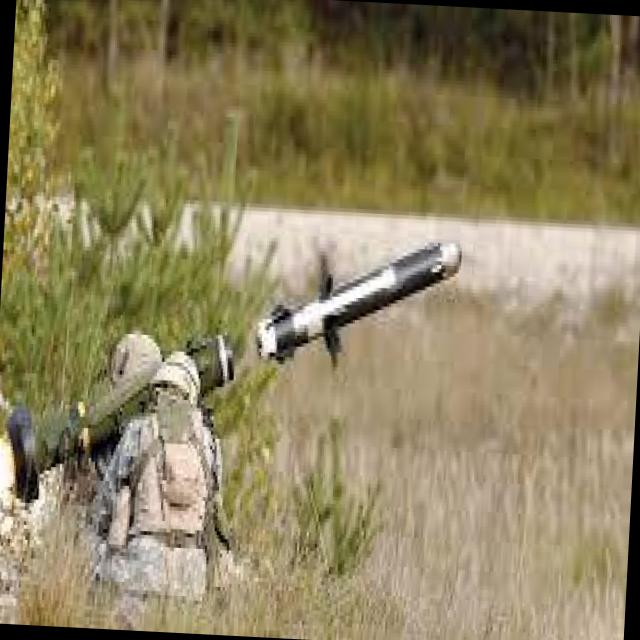rocket: (257, 234, 467, 374)
